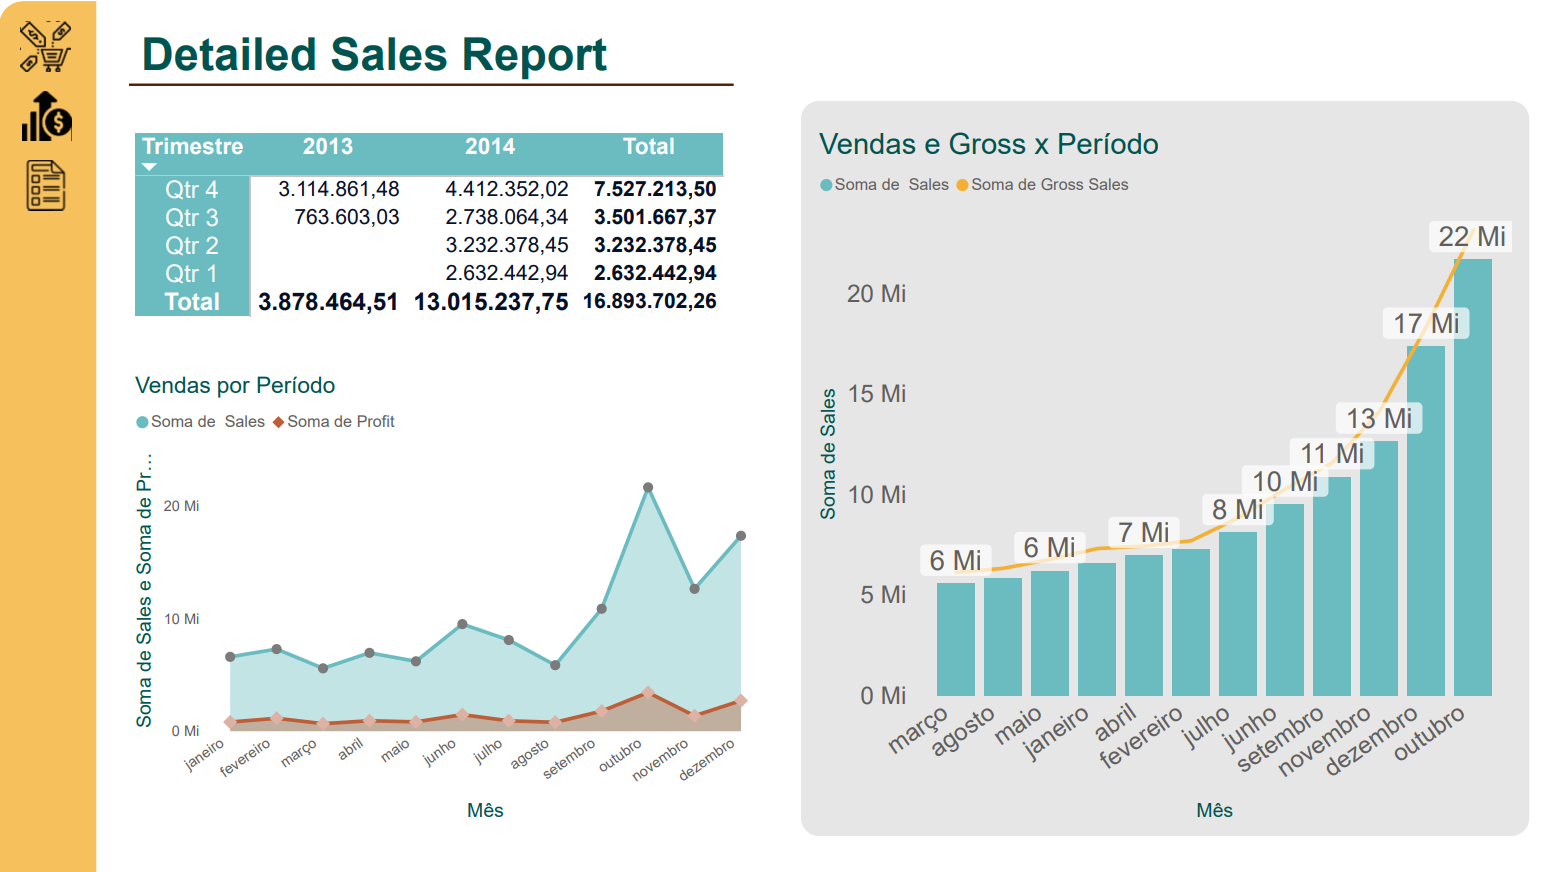

The page's visual inventory and layout, read from the dashboard file:
{"tool":"powerbi","page":{"name":"Report","canvas":[1280,720],"ordinal":2},"visuals":[{"type":"group","id":"g1","title":"Fundo","box":[0,0,80.3,720],"z":0},{"type":"shape","box":[660.1,82.4,599.8,604.6],"z":500},{"type":"shape","box":[0,0,80.3,720],"z":1000,"group":"g1"},{"type":"group","id":"g2","title":"Titulo","box":[107,18,497.8,59.4],"z":1000},{"type":"actionButton","box":[13.3,125.6,53.3,51.1],"z":1125,"group":"g1"},{"type":"actionButton","box":[13.3,68.9,53.3,51.1],"z":1250,"group":"g1"},{"type":"actionButton","box":[13.3,12.2,53.3,51.1],"z":1375,"group":"g1"},{"type":"shape","title":"Linha","box":[107,61,497.8,15.6],"z":1500,"group":"g2"},{"type":"textbox","title":"Titulo","box":[111.8,18,465.6,59.4],"z":2000,"group":"g2"},{"type":"areaChart","title":"Vendas por Período","fields":{"Category":["financials.Date.Variation.Hierarquia de datas.Trimestre","financials.Date.Variation.Hierarquia de datas.Mês"],"Y":["Sum(financials. Sales)","Sum(financials.Profit)"]},"box":[107.3,304.7,524.1,374.6],"z":4500},{"type":"lineClusteredColumnComboChart","title":"Vendas e Gross x Período","fields":{"Category":["financials.Date.Variation.Hierarquia de datas.Mês"],"Y":["Sum(financials. Sales)"],"Y2":["Sum(financials.Gross Sales)"]},"box":[669.7,104.4,579.6,574.9],"z":4750},{"type":"pivotTable","fields":{"Columns":["financials.Date.Variation.Hierarquia de datas.Ano"],"Rows":["financials.Date.Variation.Hierarquia de datas.Trimestre"],"Values":["Sum(financials.Profit)"]},"box":[107.3,104.4,499.2,165.7],"z":5000}]}

Visuals, with their boxes in screenshot pixels (x1, y1, x2, y2), scaled from the page's 1280x720 canvas onto the 1549x872 screenshot:
"Fundo" group: bbox=(0, 0, 97, 871)
shape: bbox=(799, 100, 1525, 832)
shape: bbox=(0, 0, 97, 871)
"Titulo" group: bbox=(129, 22, 732, 94)
actionButton: bbox=(16, 152, 81, 214)
actionButton: bbox=(16, 83, 81, 145)
actionButton: bbox=(16, 15, 81, 77)
"Linha" shape: bbox=(129, 74, 732, 93)
"Titulo" textbox: bbox=(135, 22, 699, 94)
"Vendas por Período" areaChart: bbox=(130, 369, 764, 823)
"Vendas e Gross x Período" lineClusteredColumnComboChart: bbox=(810, 126, 1512, 823)
pivotTable - financials.Date.Variation.Hierarquia de datas.Ano x financials.Date.Variation.Hierarquia de datas.Trimestre: bbox=(130, 126, 734, 327)
